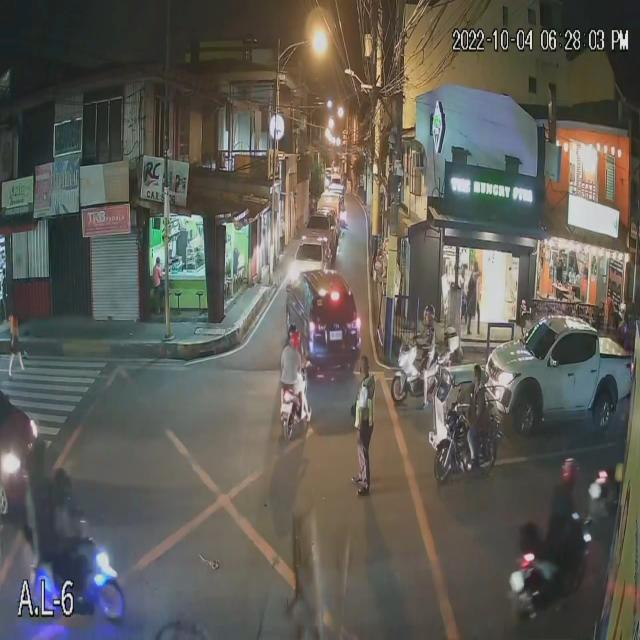Full-Faced: (51, 459, 75, 504), (561, 456, 580, 484), (290, 331, 302, 367), (288, 320, 300, 345), (424, 304, 435, 328)
